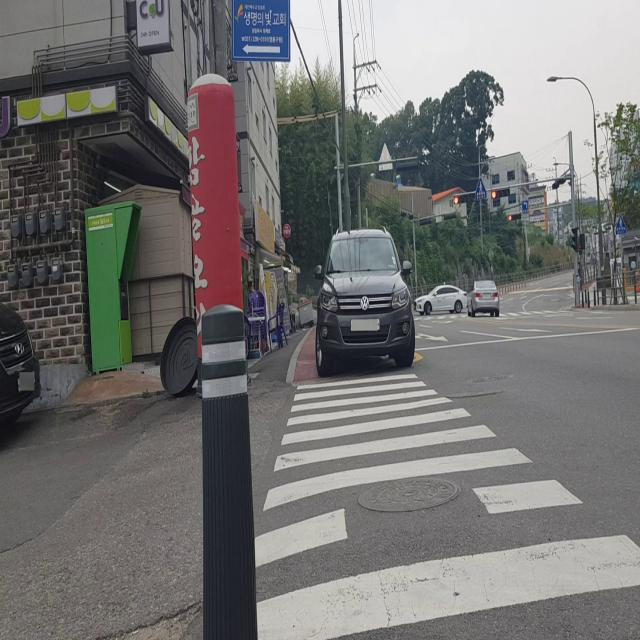횡단보도: (252, 370, 637, 634)
